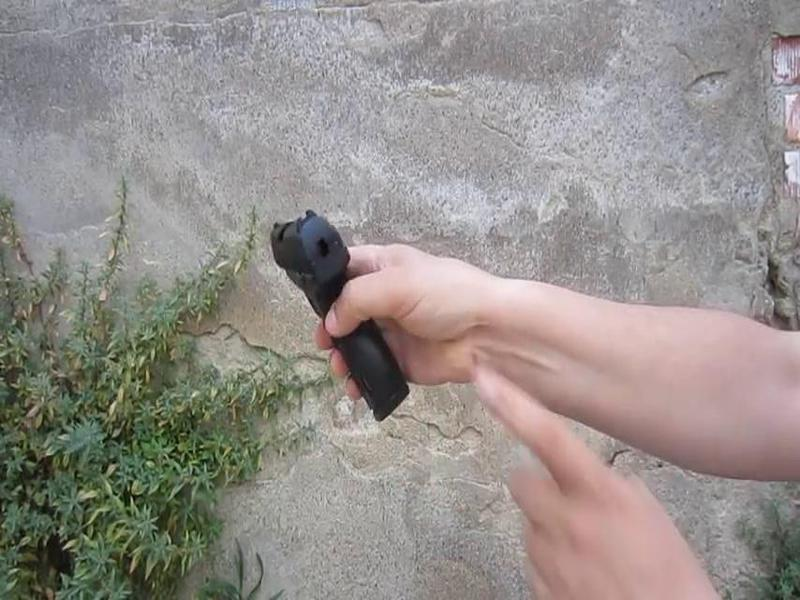Pistola: (235, 204, 420, 429)
